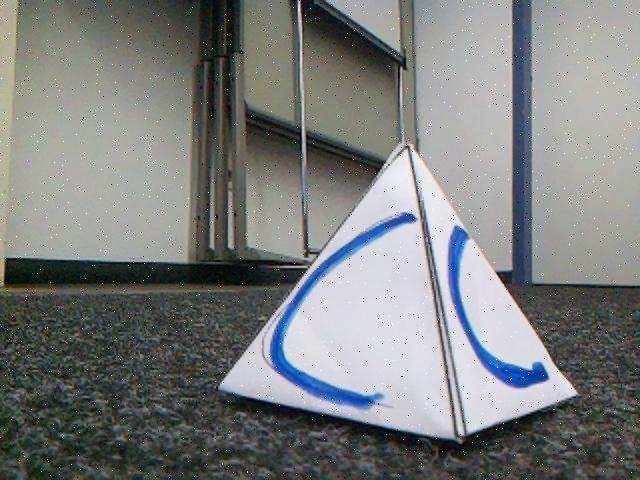C: (217, 149, 580, 444)
